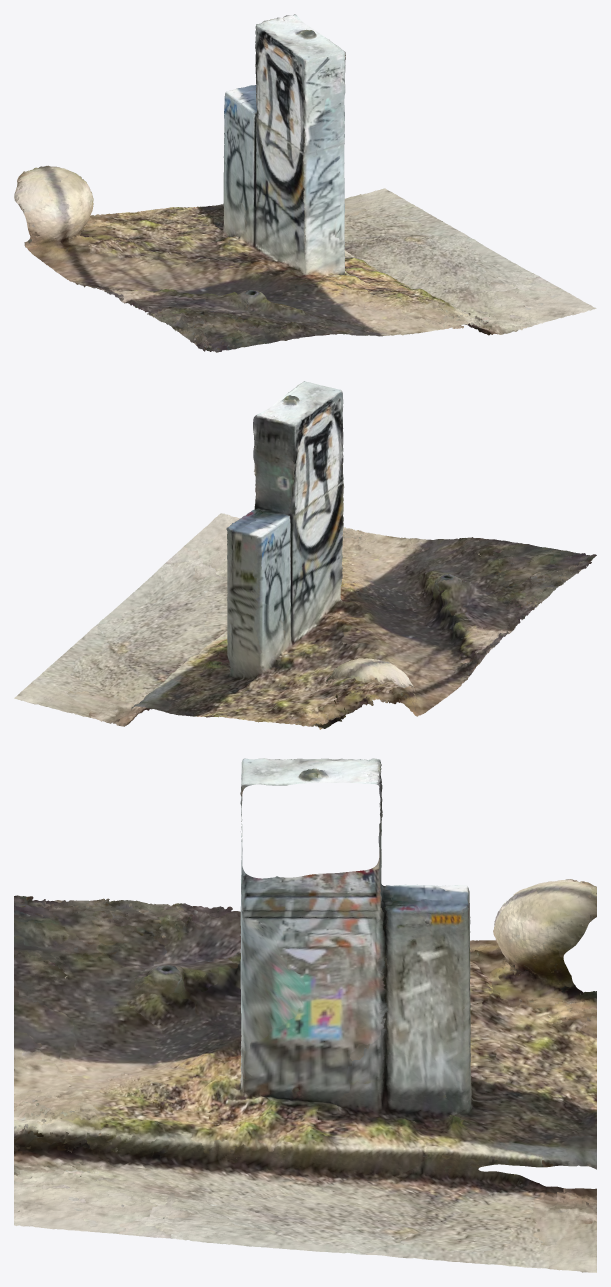
The model's file is S001_Graffiti.glb.
3 renders of one model, top to bottom at view 1: azimuth 30°, elevation 25°; view 2: azimuth 150°, elevation 25°; view 3: azimuth 270°, elevation 25°, orthographic. The views are drawn at different scales.
Parts seen in each view (by area): view 1: Object_4; view 2: Object_4; view 3: Object_4.
Boxes of the visible parts, x1,y1,x2,y2 form: Object_4: (14, 14, 596, 352); Object_4: (14, 381, 596, 729); Object_4: (14, 758, 596, 1272).
Bounding box in the file's own units: 2.64 × 1.82 × 2.51.
1 material, 1 textured.
